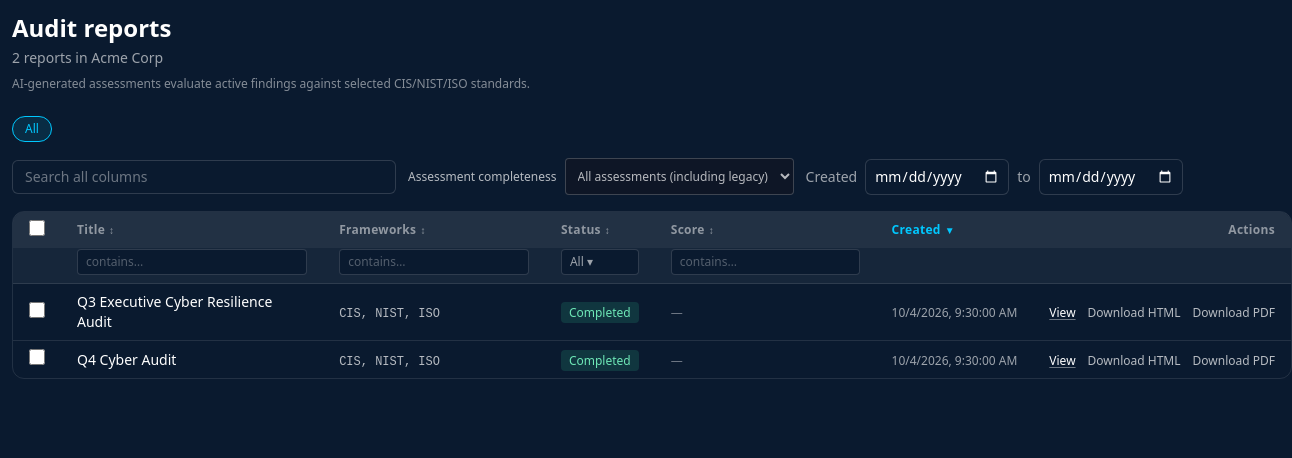
Test: ReportsPage › lets any member download selected completed reports as a PDF ZIP
What coordinates should you click on to do the following:
click the checkbox named "Select Q3 Executive Cyber Resilience Audit"
I would click on:
 (37, 310)
Its box is x1=29 y1=302 x2=45 y2=318.
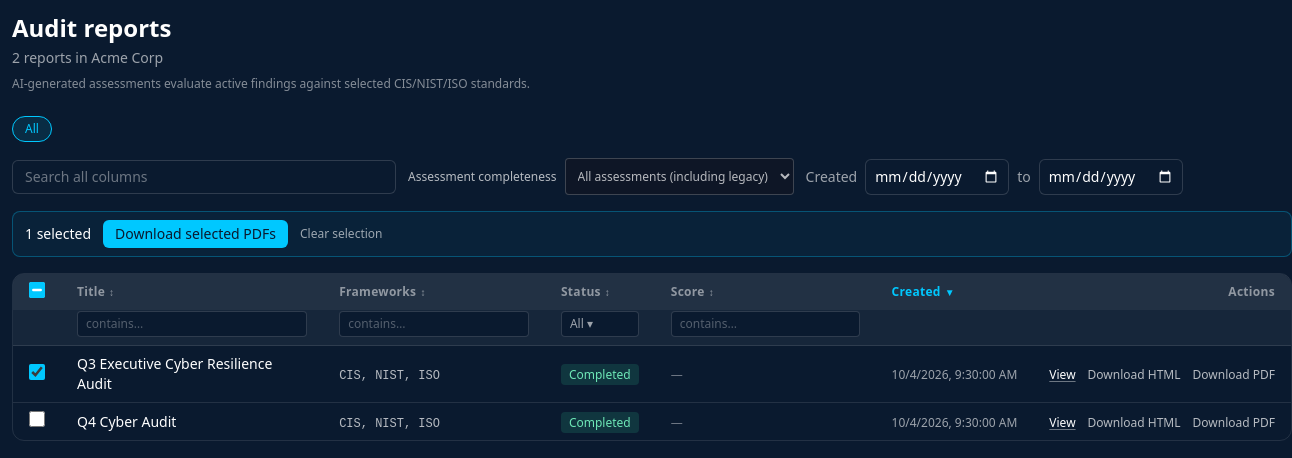
What coordinates should you click on to do the following:
click the checkbox named "Select Q4 Cyber Audit"
I would click on:
 (37, 419)
Its box is x1=29 y1=411 x2=45 y2=427.
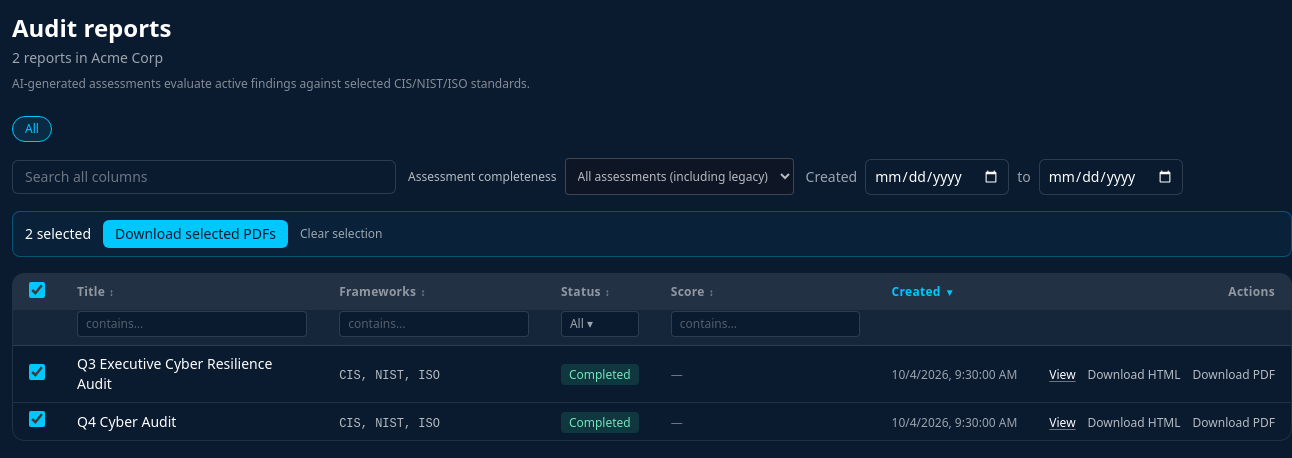
What coordinates should you click on to do the following:
click the button "Download selected PDFs"
I would click on:
 (196, 234)
Its box is x1=103 y1=220 x2=288 y2=248.
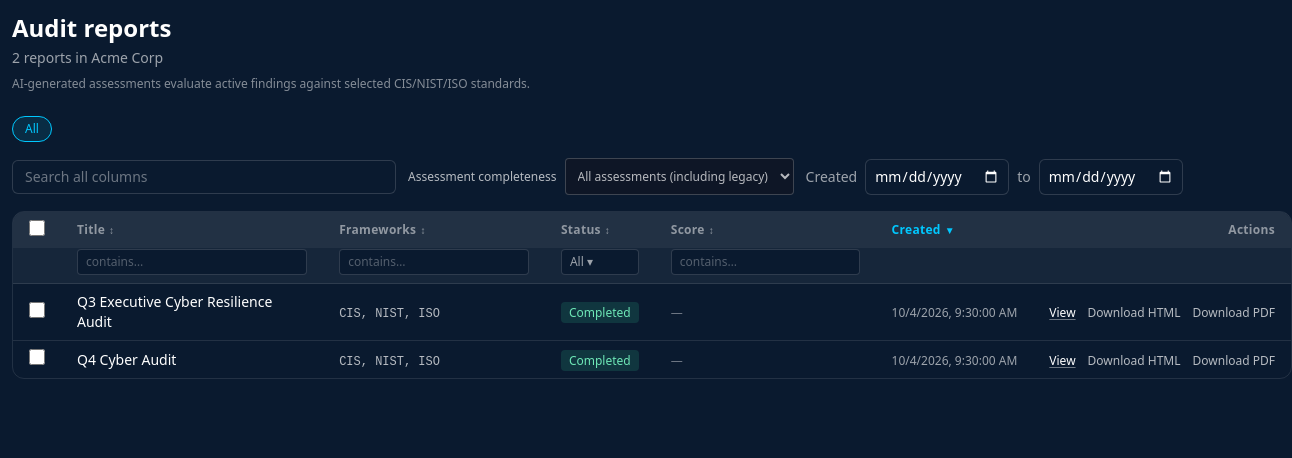
Expected: the button "Delete selected" is gone
